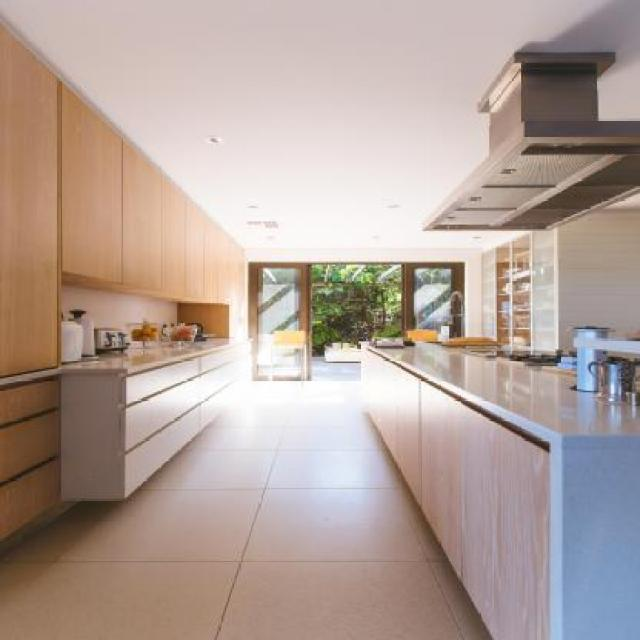Floor: (0, 380, 491, 639)
